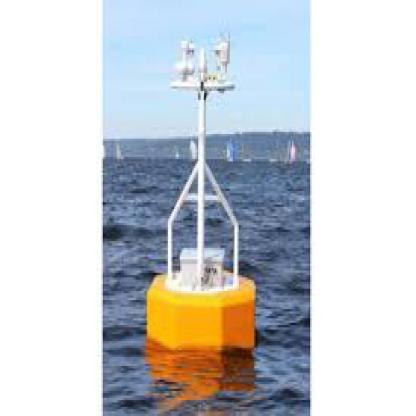buoy: (139, 16, 263, 355)
